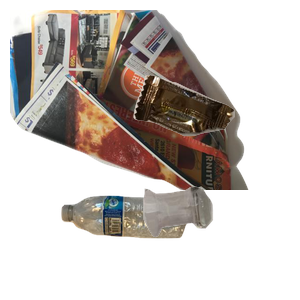glass: (141, 184, 300, 300)
paper: (10, 10, 250, 190)
plastic: (59, 193, 241, 300)
trash: (131, 73, 300, 202)
